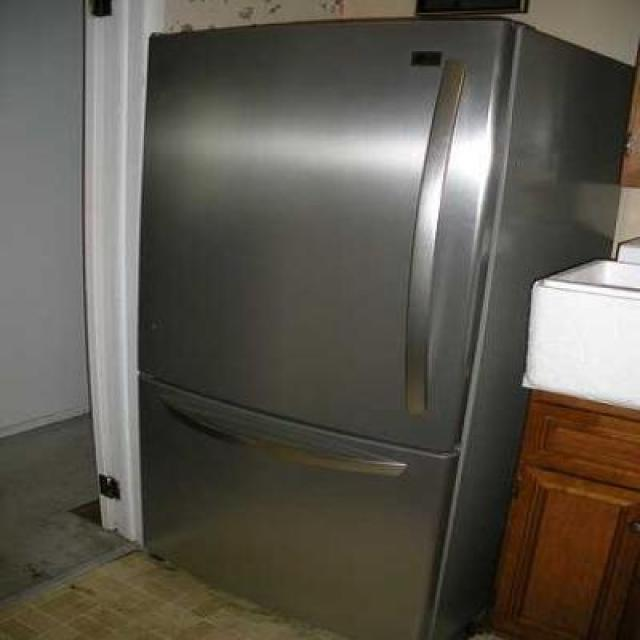refrigerator: (138, 14, 522, 640)
